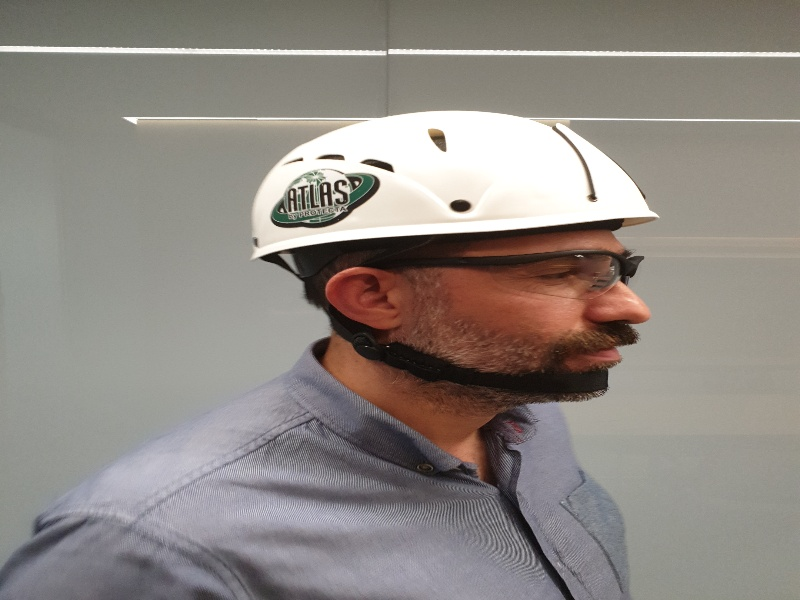Baret: (252, 108, 657, 245)
Gozluk: (373, 249, 651, 296)
